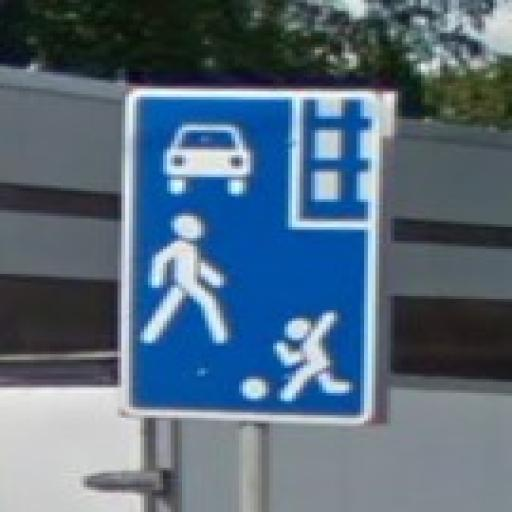traffic_sign: (119, 87, 384, 422)
